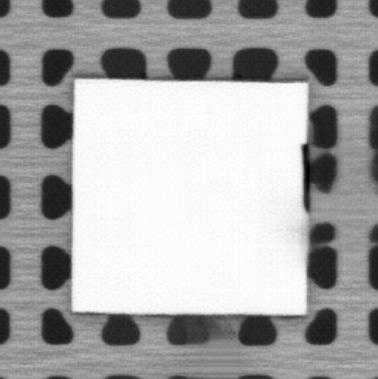DIE_BROKEN: (299, 141, 312, 214)
